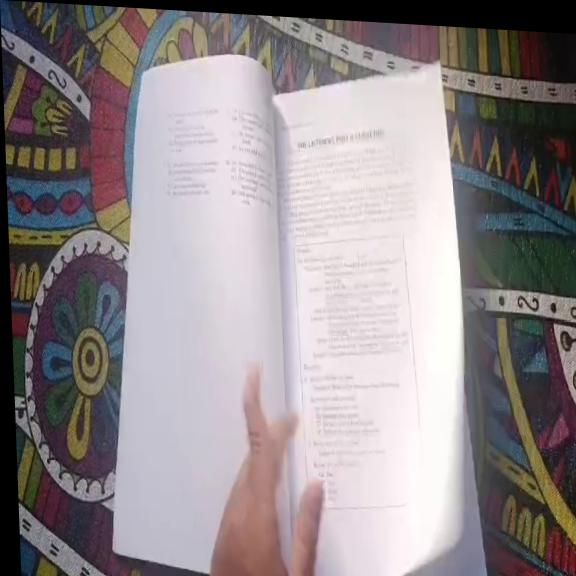Kertas: (288, 81, 459, 482)
